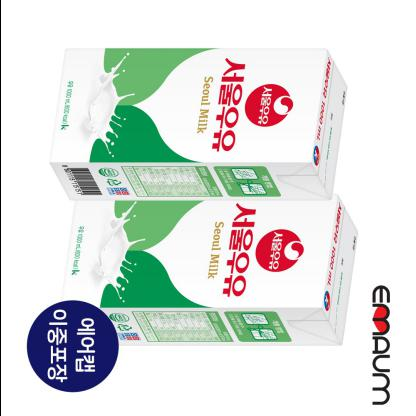tetra: (34, 20, 362, 212)
